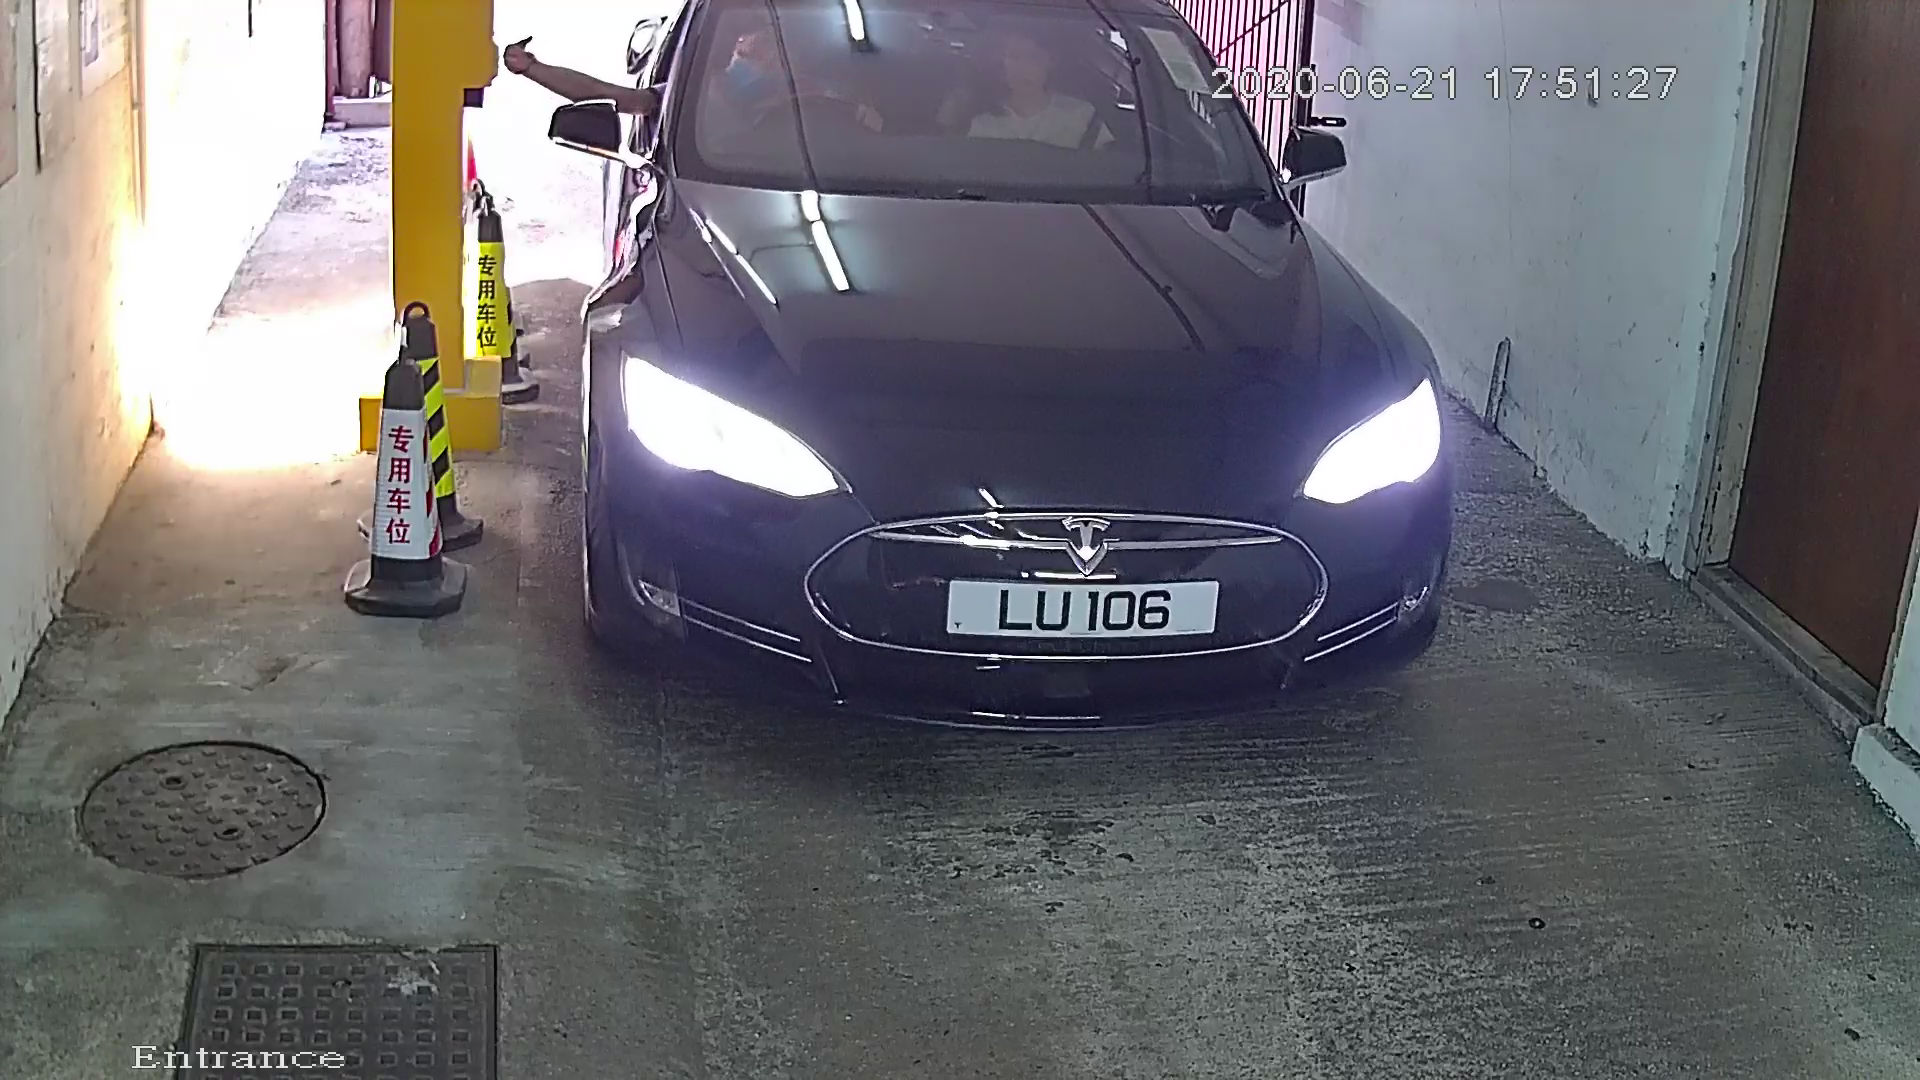privatecar: (530, 3, 1528, 795)
